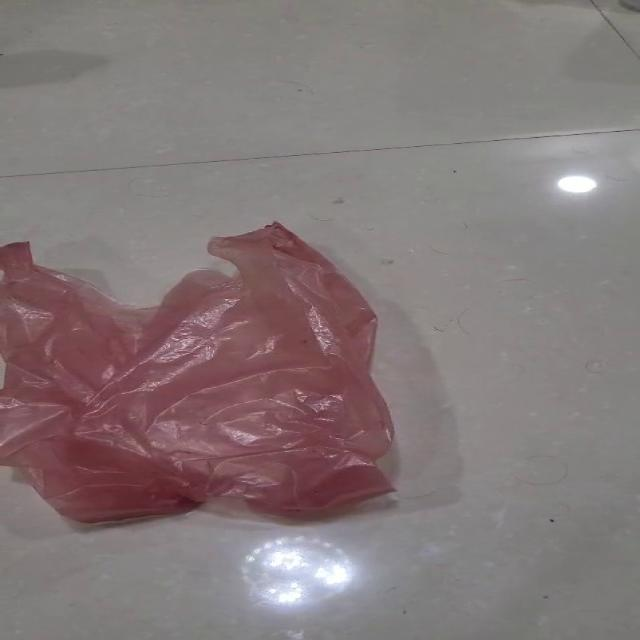plastic: (0, 220, 398, 524)
